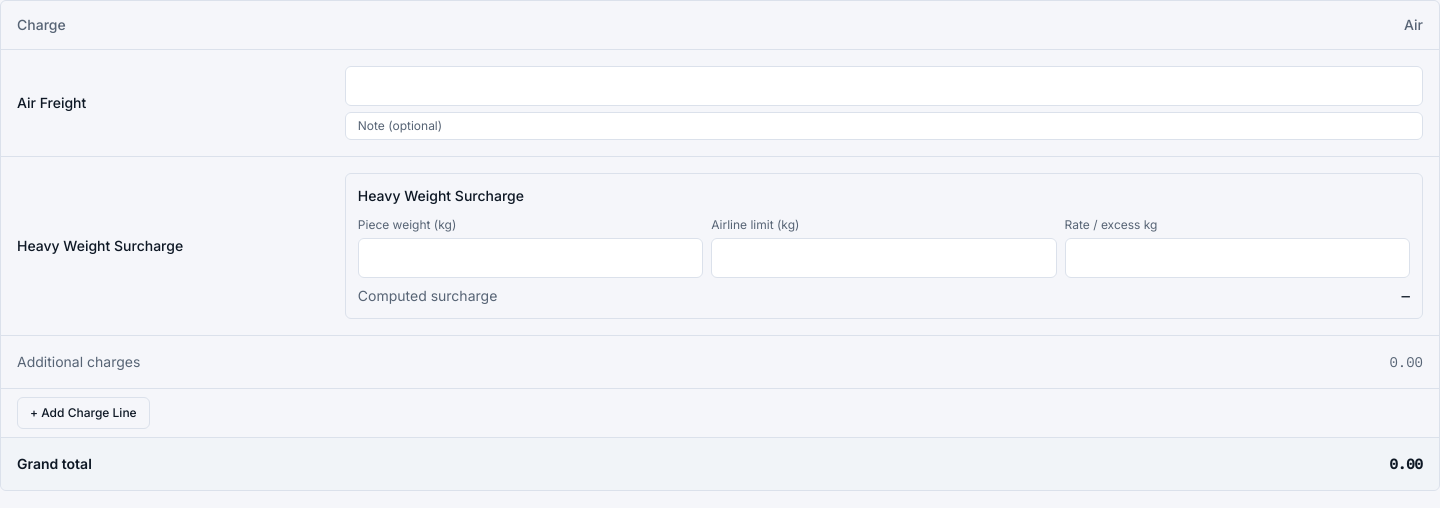
Test: ChargeMatrix — Air (single column) › the single column's grand total reflects the Air Freight cell (no separate rate cell)
Expected: the cell with test id "chargematrix-total-AIR" reads "0.00", [1389,454,1423,472]
In the number field named "air freight": (884, 86) [345,66,1423,106], type "2000"
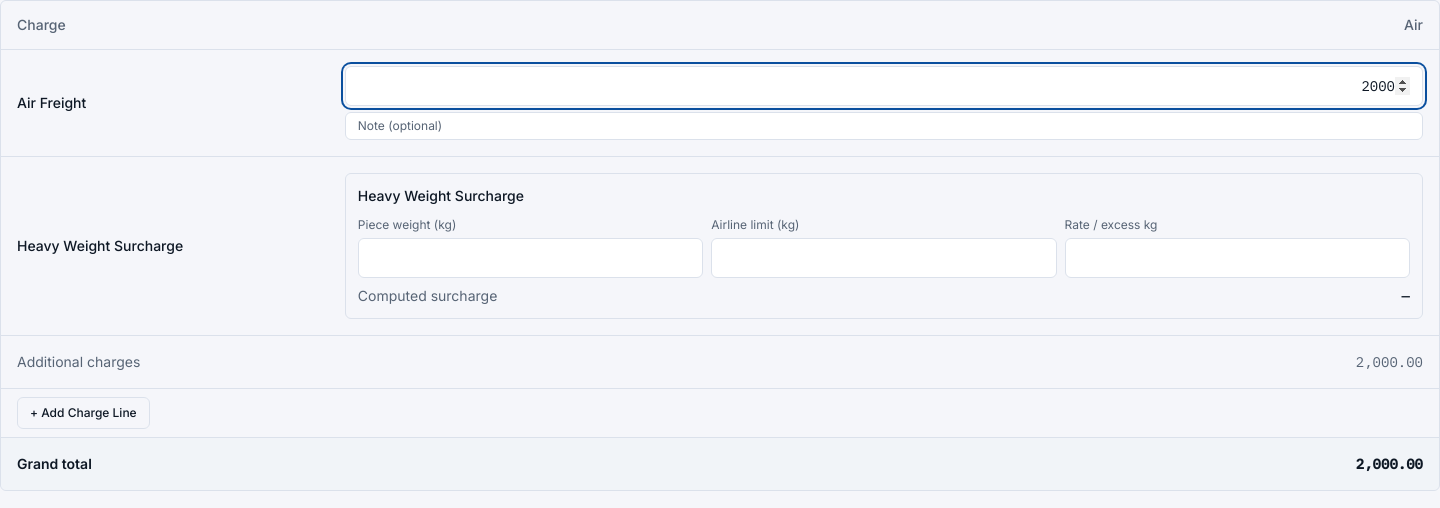
Result: the cell with test id "chargematrix-total-AIR" reads "2,000.00" at [1356,454,1423,472]
